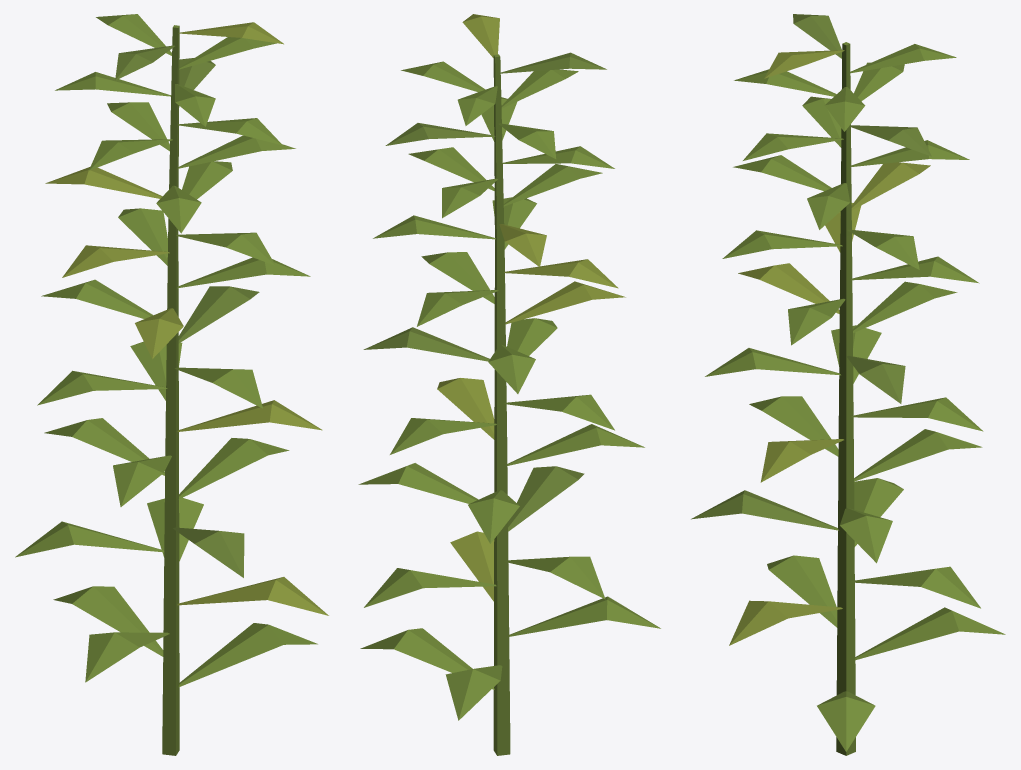
File: Plants_7.fbx
3 renders of one model, left to right at view 1: azimuth 30°, elevation 25°; view 2: azimuth 150°, elevation 25°; view 3: azimuth 270°, elevation 25°, orthographic. The views are drawn at different scales.
Parts seen in each view (by area): view 1: Plant_7; view 2: Plant_7; view 3: Plant_7.
Boxes of the visible parts, box(x1,y1,x2,y2) form: Plant_7: box(15, 14, 328, 755); Plant_7: box(358, 14, 660, 755); Plant_7: box(691, 14, 1005, 755).
Bounding box in the file's own units: 83.66 × 209 × 83.34.
